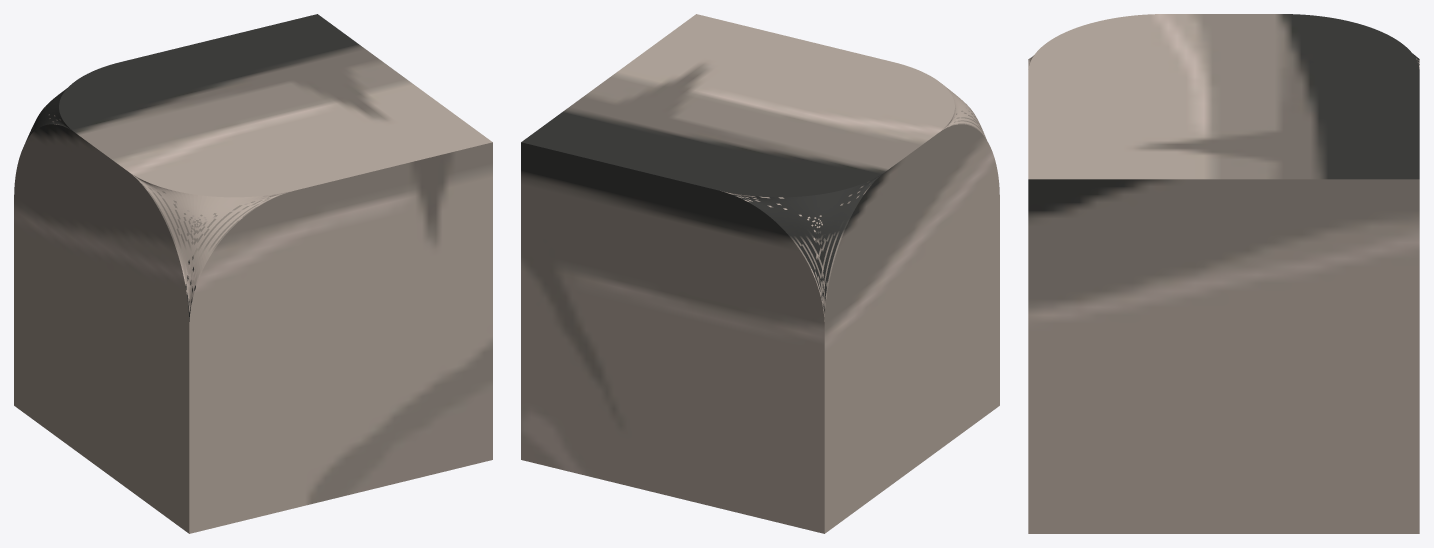
File: bordillo3.fbx
3 views of the same model, side by side, from view 1: azimuth 30°, elevation 25°; view 2: azimuth 150°, elevation 25°; view 3: azimuth 270°, elevation 25° (orthographic). The views are drawn at different scales.
Visible parts, largest first — view 1: Cube.002; view 2: Cube.002; view 3: Cube.002.
Boxes of the visible parts, <box> form: Cube.002: <box>14,14,492,533</box>; Cube.002: <box>521,14,999,533</box>; Cube.002: <box>1028,14,1419,533</box>.
Size of the model in its own units: 200 by 200 by 200.
1 material, 1 textured.
